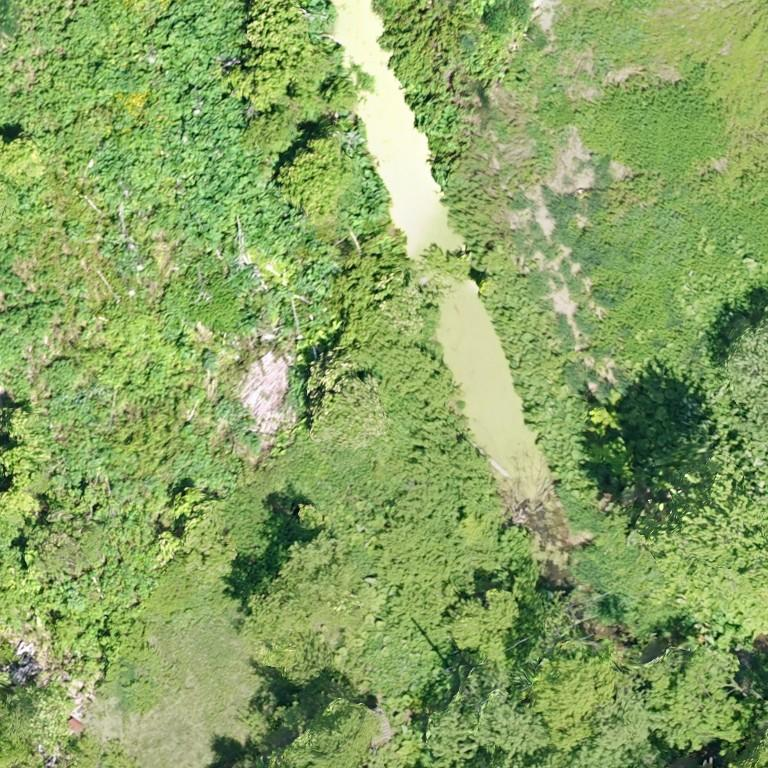hogweed: (0, 0, 300, 262), (353, 165, 391, 228)
